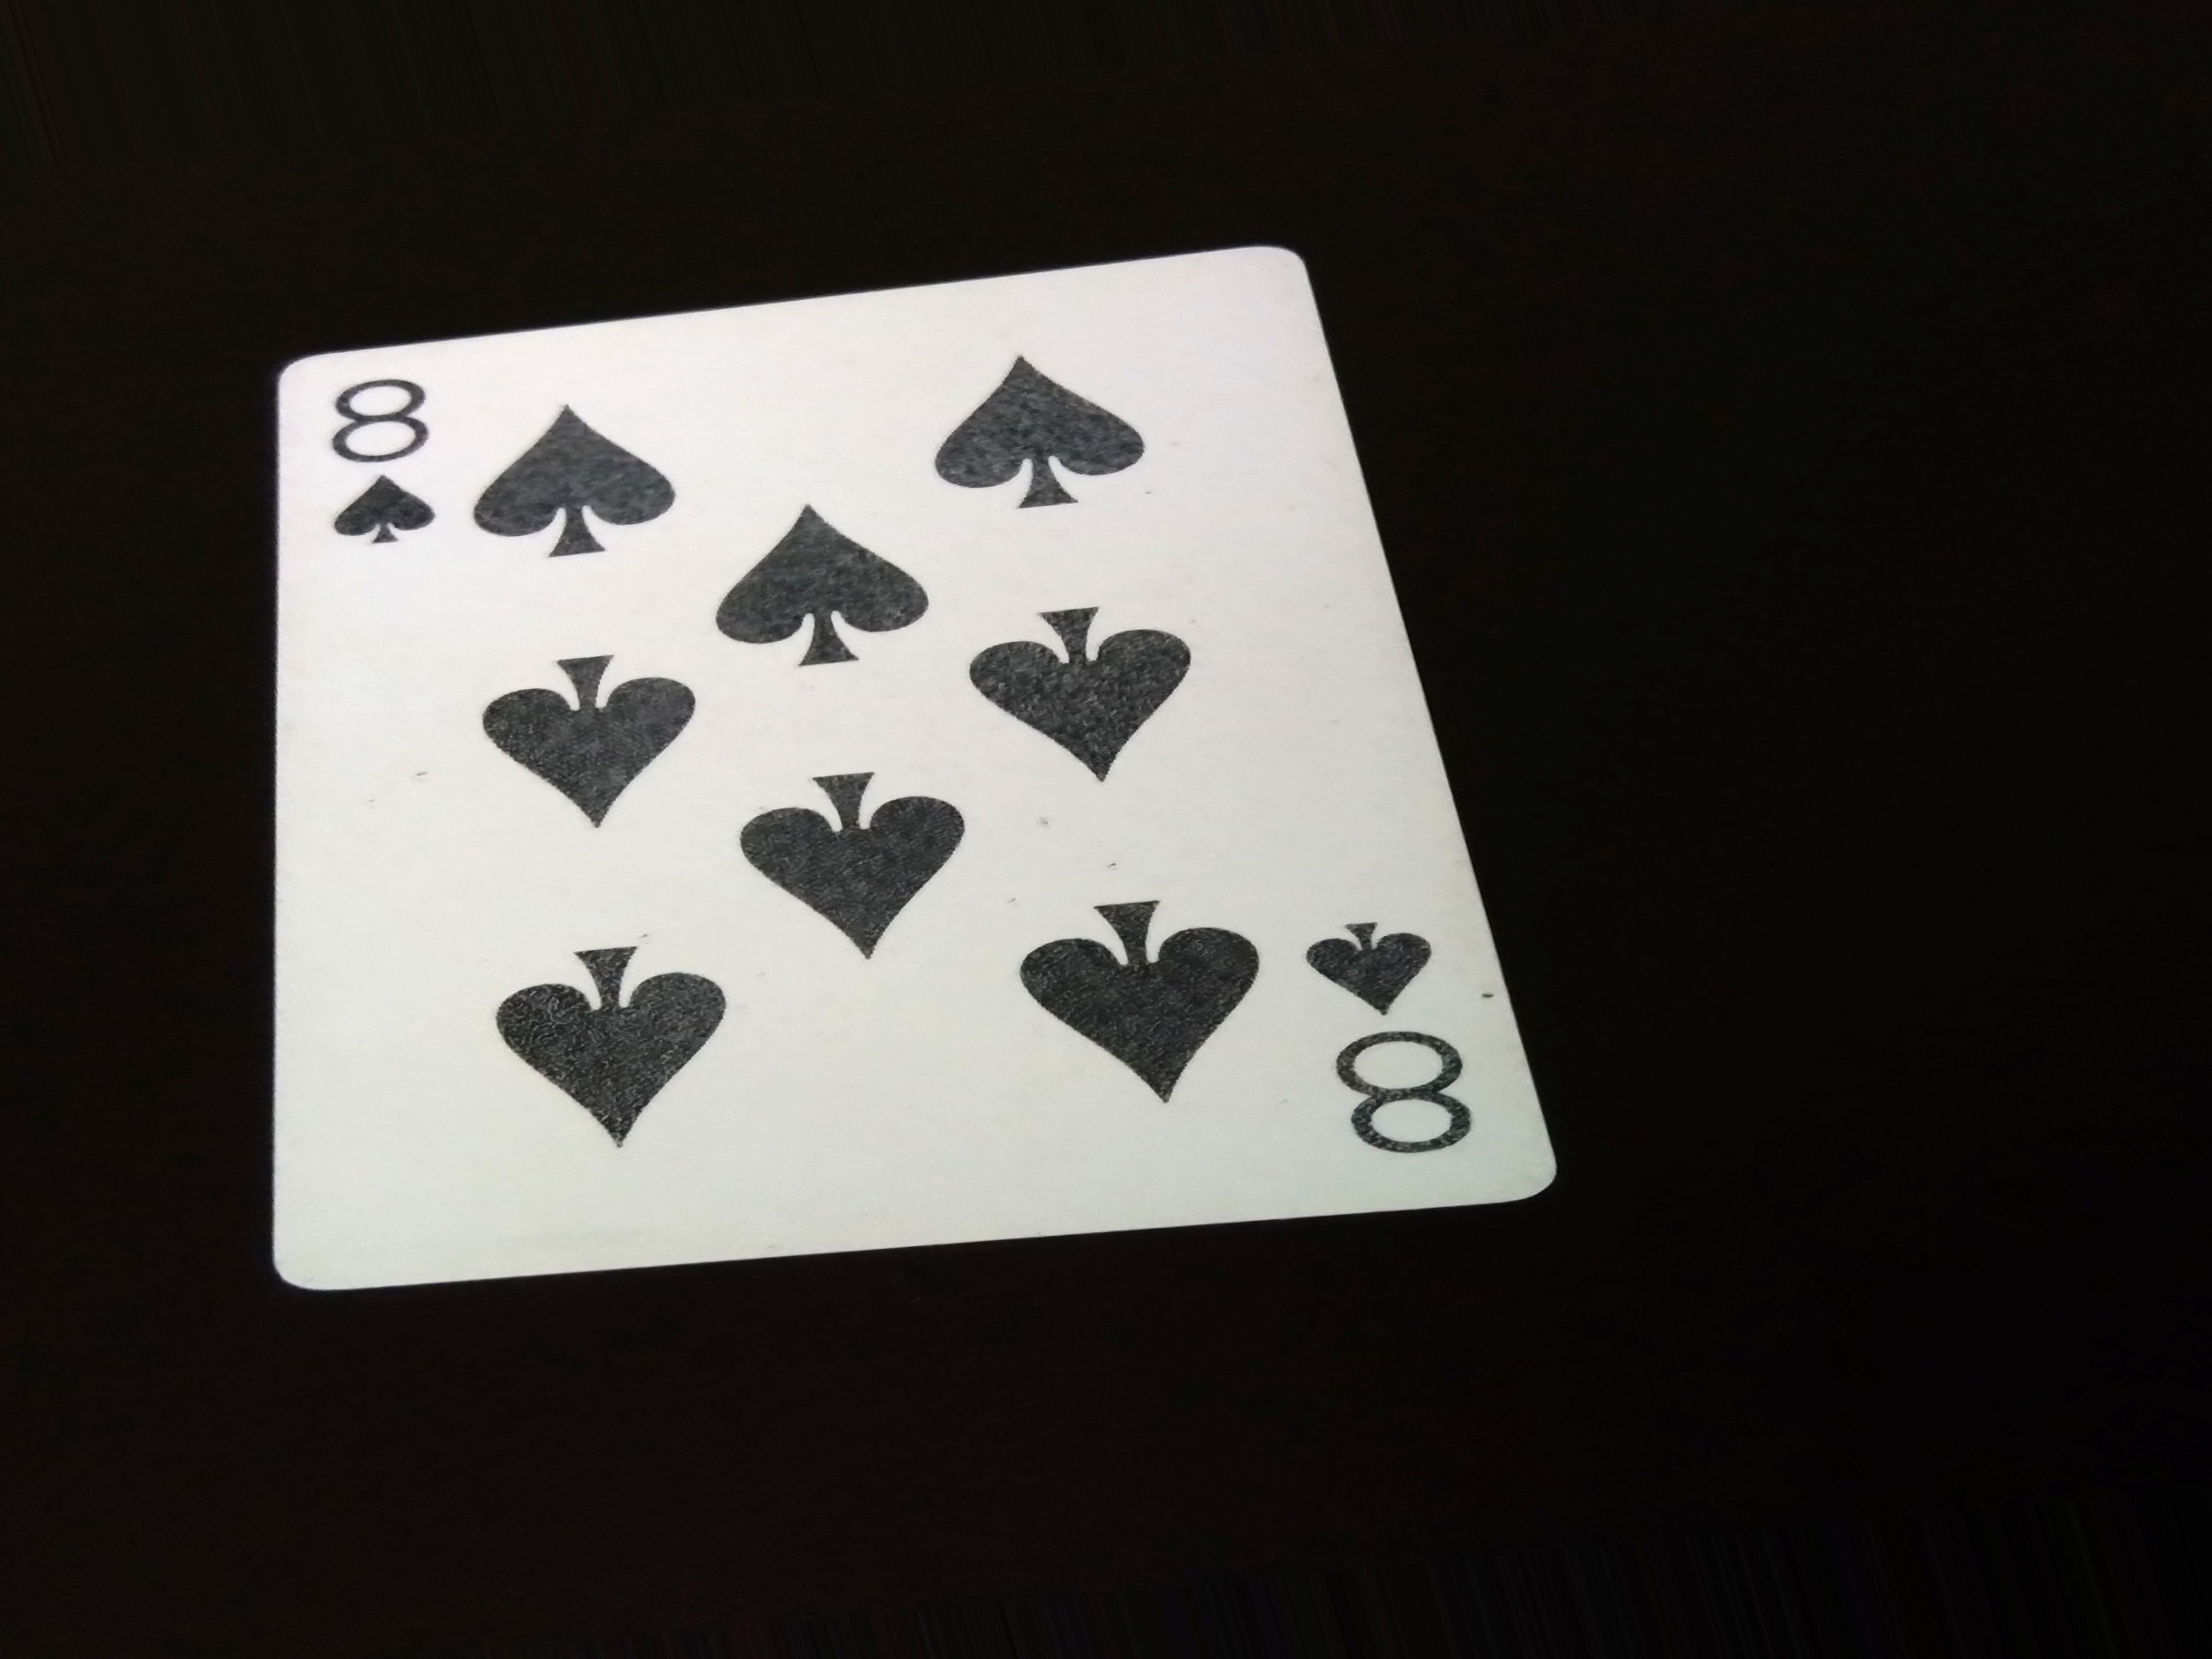8S: (324, 361, 441, 619)
